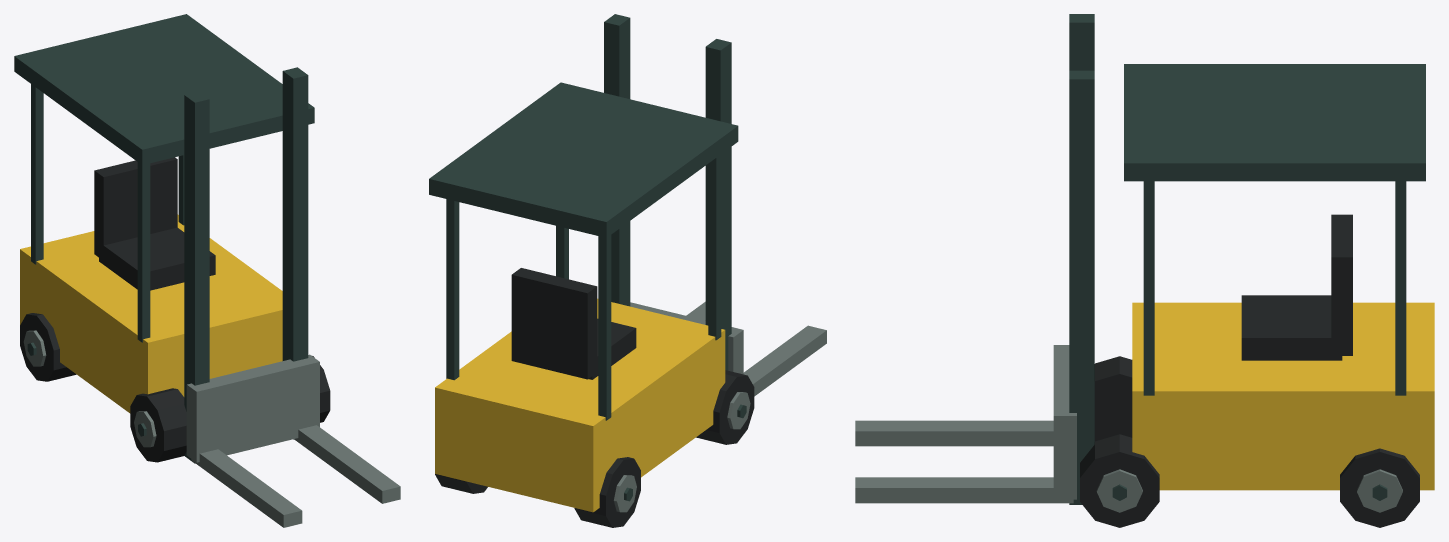
File: ForkliftStatic.obj
3 views of the same model, side by side, from view 1: azimuth 30°, elevation 25°; view 2: azimuth 150°, elevation 25°; view 3: azimuth 270°, elevation 25° (orthographic). The views are drawn at different scales.
Parts seen in each view (by area): view 1: ForkliftStatic; view 2: ForkliftStatic; view 3: ForkliftStatic.
Part boxes in pixels (x1,y1,x2,y2): ForkliftStatic: (14,14,400,527); ForkliftStatic: (429,14,826,527); ForkliftStatic: (855,14,1434,527).
Size of the model in its own units: 1.45 by 2.85 by 3.45.
